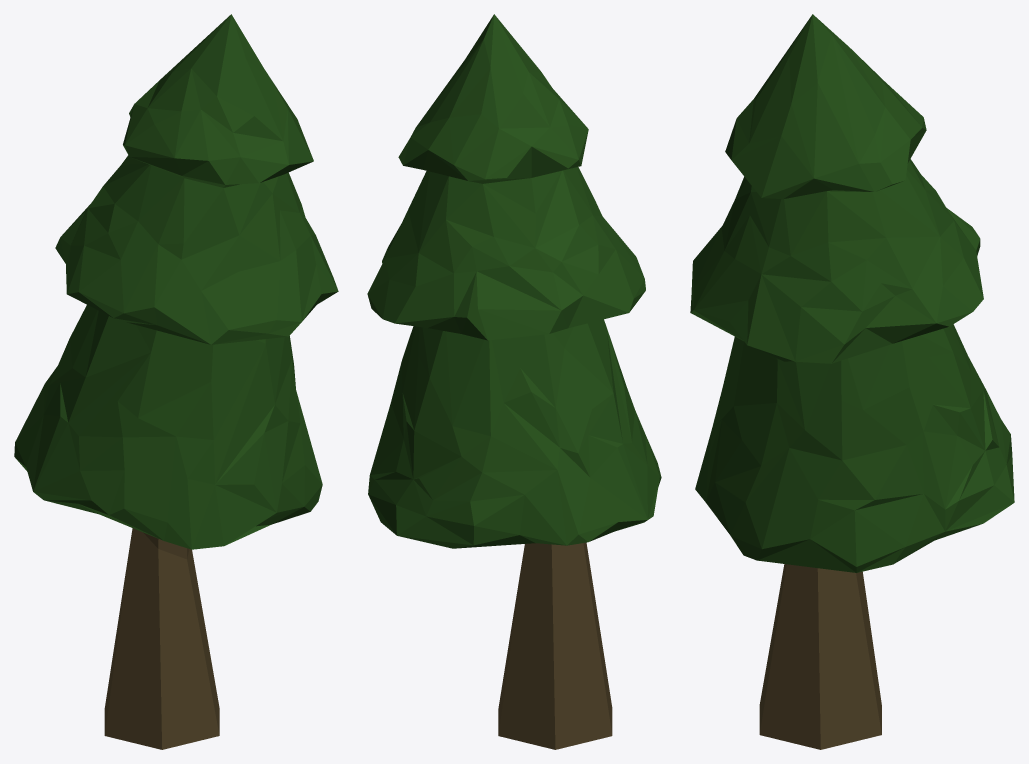
Rendered from PineTree5.fbx.
3 views of the same model, side by side, from view 1: azimuth 30°, elevation 25°; view 2: azimuth 150°, elevation 25°; view 3: azimuth 270°, elevation 25° (orthographic). The views are drawn at different scales.
Visible parts, largest first — view 1: Tree2; view 2: Tree2; view 3: Tree2.
Part boxes in pixels (bbox=[...]): Tree2: bbox=[14, 14, 338, 749]; Tree2: bbox=[367, 14, 661, 749]; Tree2: bbox=[690, 14, 1014, 749].
Bounding box in the file's own units: 1.98 × 4.72 × 1.87.
